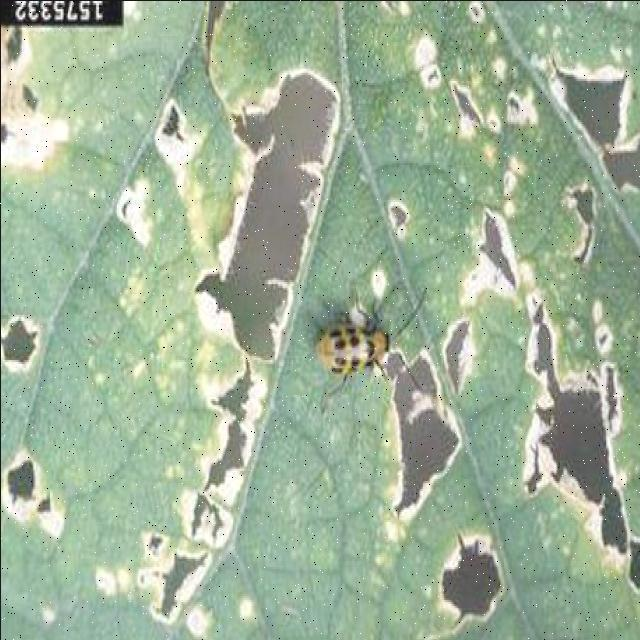gusano_verde: (311, 280, 425, 400)
